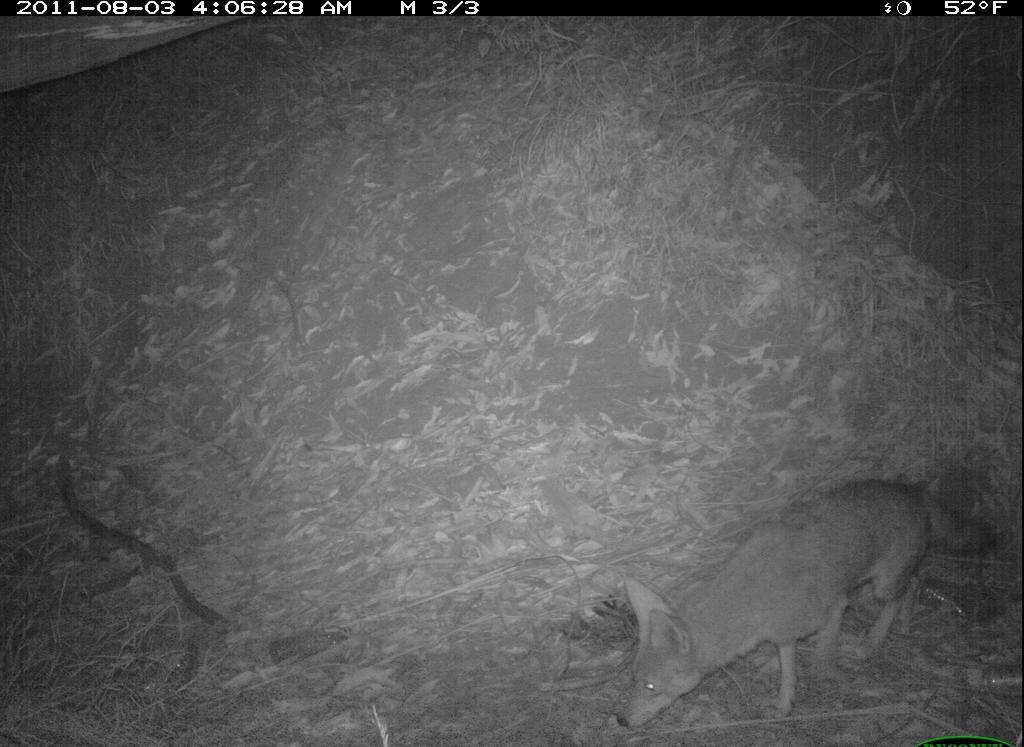coyote: (607, 473, 1010, 739)
